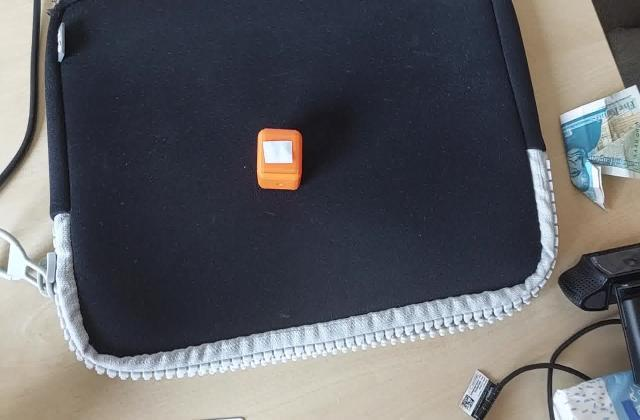sticker: (254, 130, 305, 194)
white: (260, 137, 297, 166)
